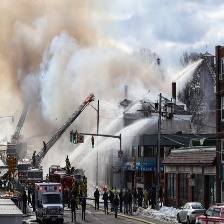smoke: (1, 1, 114, 134)
